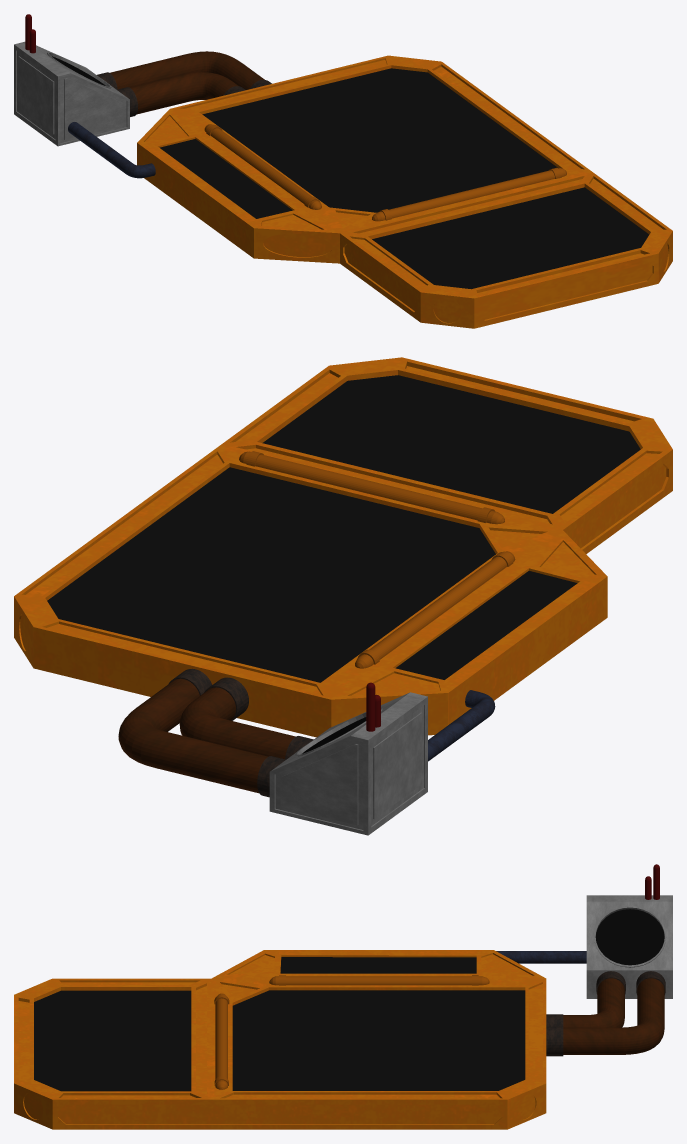
The model's file is Final_Power up device.glb.
3 renders of one model, top to bottom at view 1: azimuth 30°, elevation 25°; view 2: azimuth 150°, elevation 25°; view 3: azimuth 270°, elevation 25°, orthographic. The views are drawn at different scales.
Visible parts, largest first — view 1: Plane.001, Plane, Cube, Cylinder, Cylinder.001, Plane.002, Plane.003, Cylinder.002; view 2: Plane.001, Plane, Cube, Cylinder, Cylinder.001, Plane.002, Plane.003, Cylinder.002, Cube.004, Cube.001; view 3: Plane.001, Plane, Cube, Cylinder, Cube.003, Plane.003, Cylinder.001, Plane.002, Cylinder.002, Cube.004, Cube.001, Cube.002.
Boxes of the visible parts, bbox=[...] form: Plane.001: bbox=[160, 68, 649, 289]; Plane: bbox=[137, 55, 672, 328]; Cube: bbox=[14, 41, 129, 146]; Cylinder: bbox=[110, 51, 264, 89]; Cylinder.001: bbox=[130, 72, 238, 114]; Plane.002: bbox=[372, 167, 566, 221]; Plane.003: bbox=[204, 124, 321, 209]; Cylinder.002: bbox=[68, 122, 155, 178]; Plane.001: bbox=[47, 375, 640, 682]; Plane: bbox=[14, 357, 672, 737]; Cube: bbox=[269, 692, 427, 835]; Cylinder: bbox=[118, 678, 267, 793]; Cylinder.001: bbox=[179, 687, 295, 759]; Plane.002: bbox=[239, 451, 504, 524]; Plane.003: bbox=[355, 551, 515, 668]; Cylinder.002: bbox=[428, 690, 495, 761]; Cube.004: bbox=[168, 668, 248, 720]; Cube.001: bbox=[257, 736, 313, 797]; Plane.001: bbox=[34, 957, 525, 1091]; Plane: bbox=[14, 950, 546, 1129]; Cube: bbox=[586, 895, 672, 998]; Cylinder: bbox=[563, 978, 664, 1054]; Cube.003: bbox=[595, 909, 664, 965]; Plane.003: bbox=[269, 975, 489, 985]; Cylinder.001: bbox=[563, 978, 624, 1027]; Plane.002: bbox=[214, 993, 229, 1089]; Cylinder.002: bbox=[496, 951, 586, 963]; Cube.004: bbox=[546, 1014, 563, 1056]; Cube.001: bbox=[596, 971, 665, 994]; Cube.002: bbox=[645, 864, 659, 899].
Bounding box in the file's own units: 6.74 × 1.96 × 11.37.
Materials: 12 (11 with a texture image).
